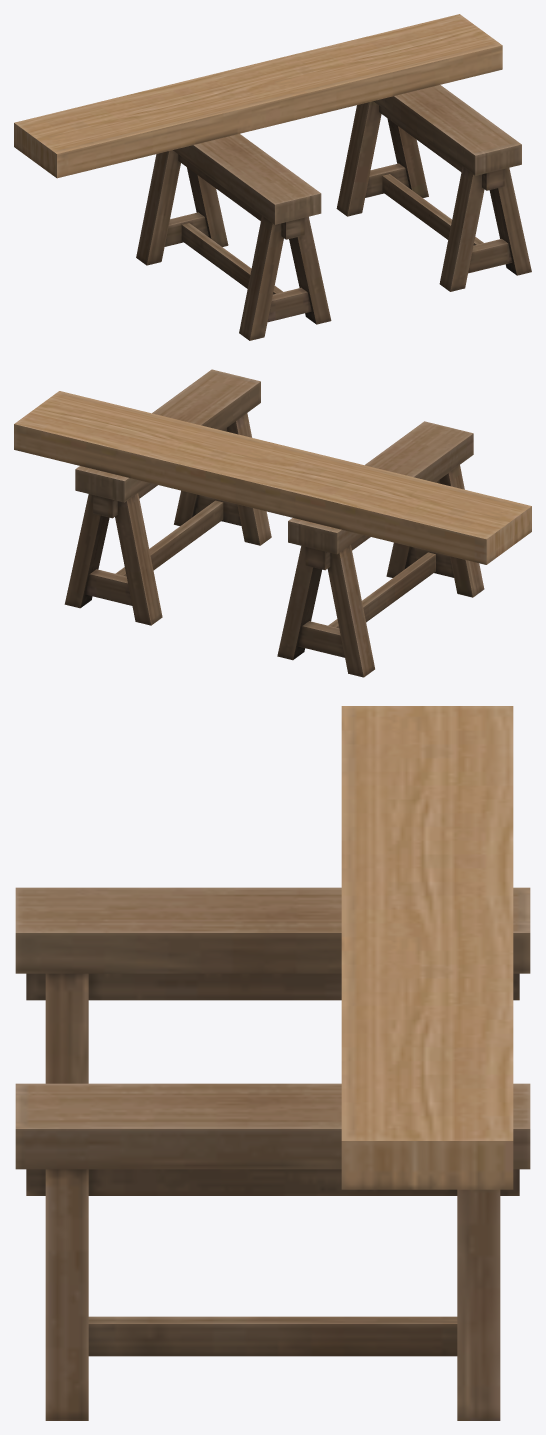
File: Map_Furniture_078.fbx
3 views of the same model, one above another, from view 1: azimuth 30°, elevation 25°; view 2: azimuth 150°, elevation 25°; view 3: azimuth 270°, elevation 25° (orthographic). The views are drawn at different scales.
Parts seen in each view (by area): view 1: Map_Furniture_078; view 2: Map_Furniture_078; view 3: Map_Furniture_078.
Part boxes in pixels (<box>): Map_Furniture_078: <box>14,14,531,340</box>; Map_Furniture_078: <box>14,369,531,677</box>; Map_Furniture_078: <box>15,706,530,1420</box>.
Bounding box in the file's own units: 2.4 × 0.832 × 1.2.
